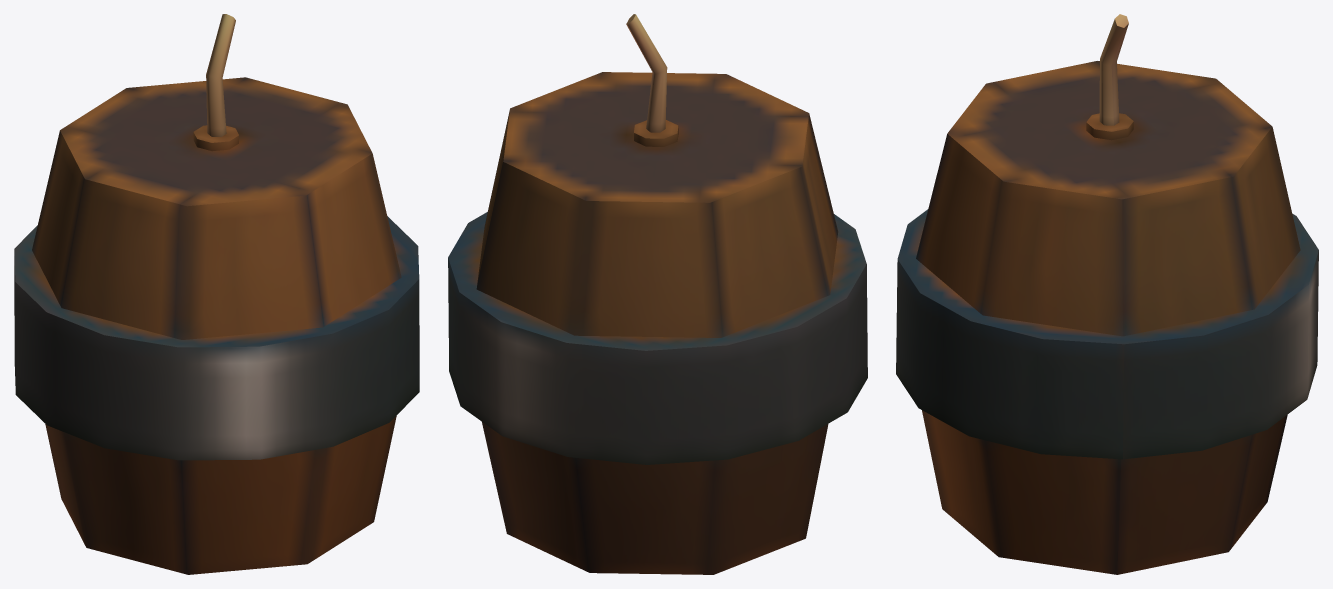
The model's file is Barrel.fbx.
The picture shows the model from 3 angles, left to right: view 1: azimuth 30°, elevation 25°; view 2: azimuth 150°, elevation 25°; view 3: azimuth 270°, elevation 25°; orthographic projection. The views are drawn at different scales.
Parts seen in each view (by area): view 1: barrel_copy; view 2: barrel_copy; view 3: barrel_copy.
Part boxes in pixels (x1,y1,x2,y2): barrel_copy: (14, 14, 419, 574); barrel_copy: (448, 14, 867, 574); barrel_copy: (896, 14, 1318, 574).
Size of the model in its own units: 41.68 by 54.67 by 41.79.
